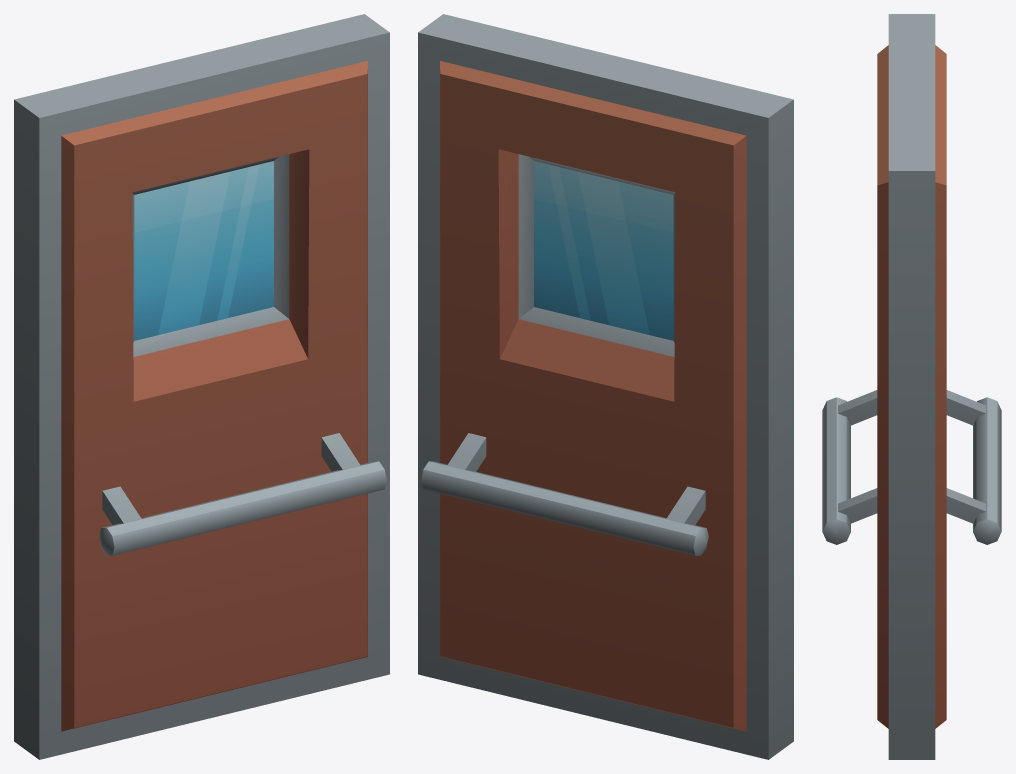
File: Door-MSIuI2jpqb.glb
The picture shows the model from 3 angles, left to right: view 1: azimuth 30°, elevation 25°; view 2: azimuth 150°, elevation 25°; view 3: azimuth 270°, elevation 25°; orthographic projection. The views are drawn at different scales.
Visible parts, largest first — view 1: door_B; view 2: door_B; view 3: door_B.
Boxes of the visible parts, <box> form: door_B: <box>14,14,389,759</box>; door_B: <box>418,14,793,759</box>; door_B: <box>822,14,1001,759</box>.
Bounding box in the file's own units: 1.6 × 2.8 × 0.7714.
1 material, 1 textured.
